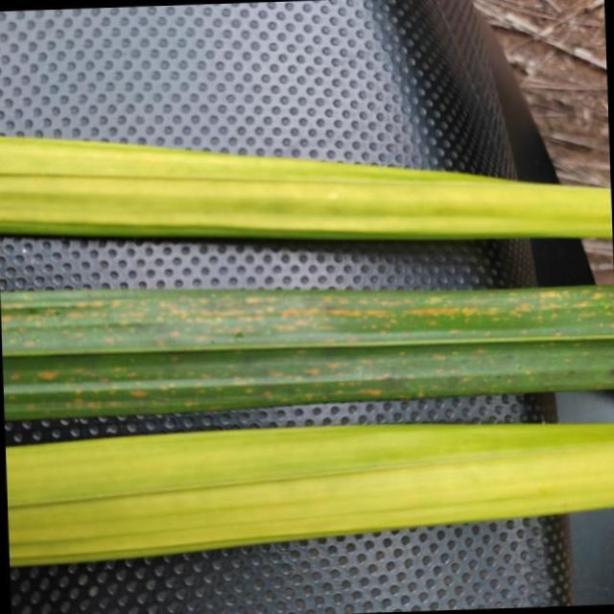nitrogen: (5, 414, 614, 571), (0, 286, 614, 421), (0, 128, 614, 241)
